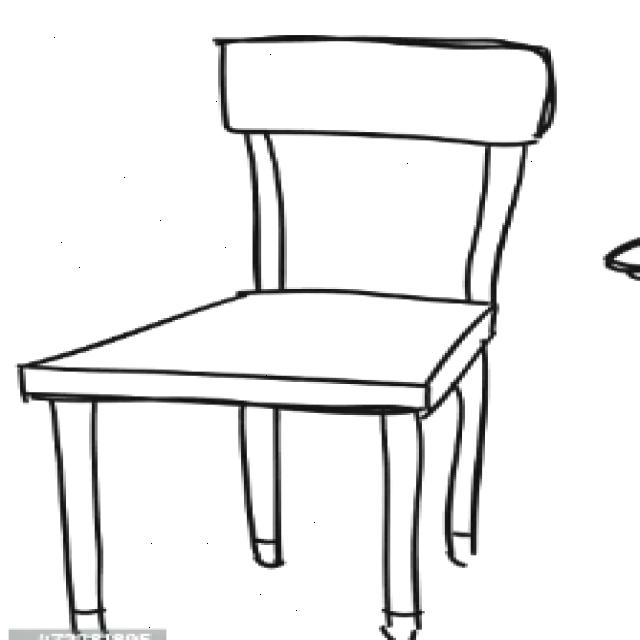Backrest: (205, 30, 566, 300)
Leg_Structure: (34, 328, 499, 637)
Seat: (17, 284, 503, 415)
